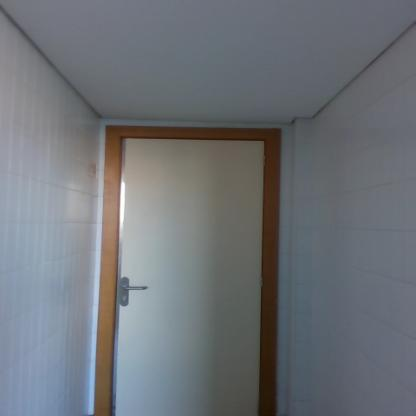door: (119, 136, 262, 415)
lever: (122, 284, 150, 292)
